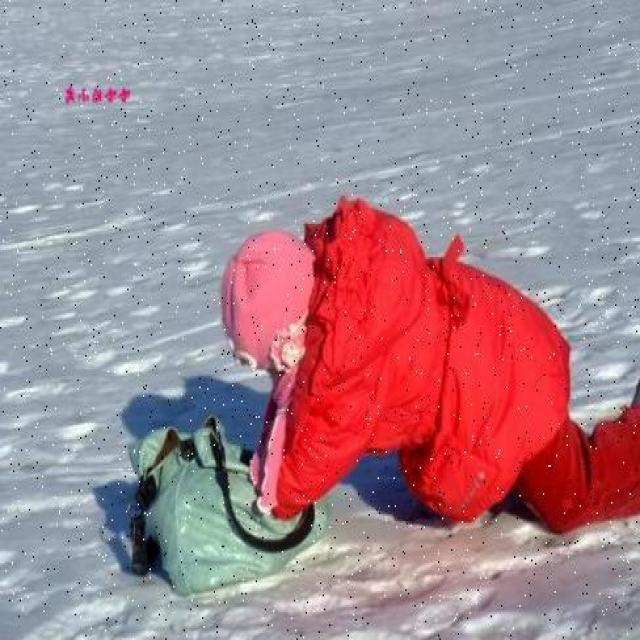fall: (244, 212, 639, 540)
